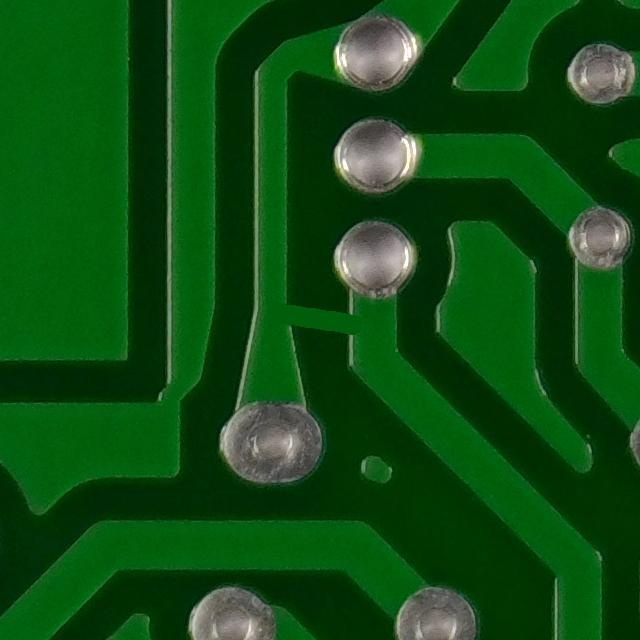short: (245, 264, 396, 377)
